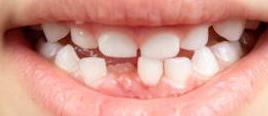Hypodontia: (104, 60, 143, 79)
